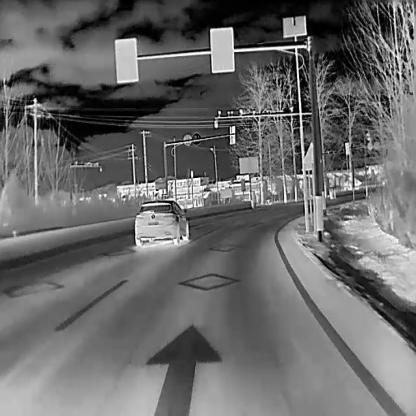car: (134, 198, 188, 245)
